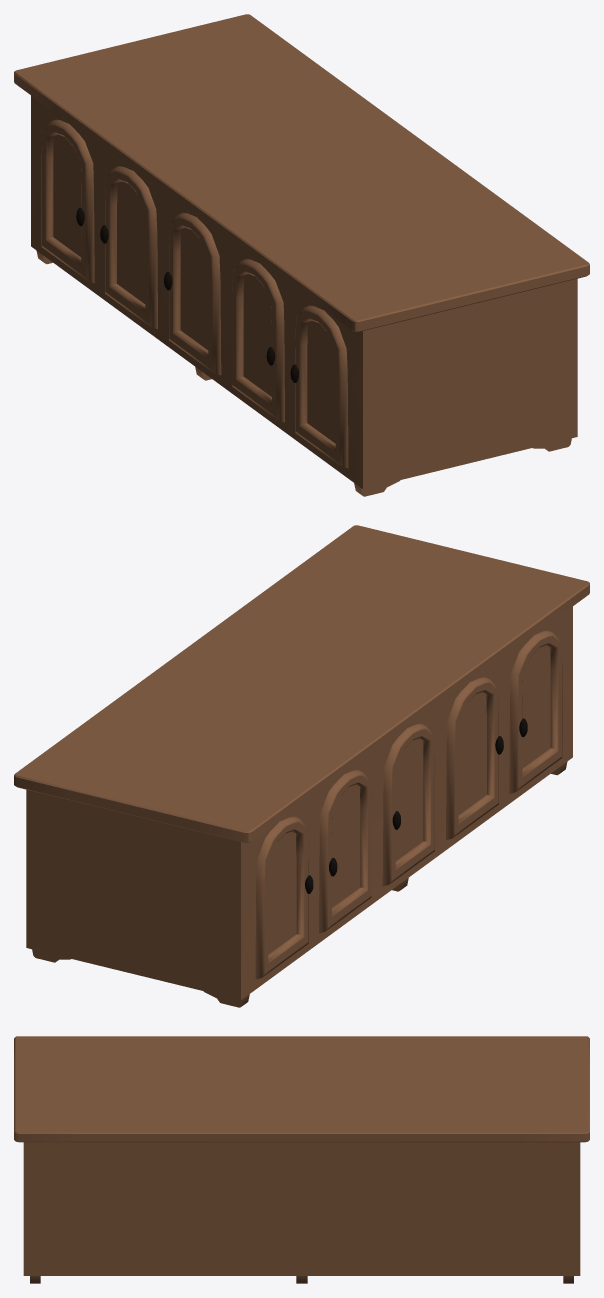
Rendered from CI_079_huge_cupboard_var3.glb.
3 renders of one model, top to bottom at view 1: azimuth 30°, elevation 25°; view 2: azimuth 150°, elevation 25°; view 3: azimuth 270°, elevation 25°, orthographic. The views are drawn at different scales.
Visible parts, largest first — view 1: cupboard; view 2: cupboard; view 3: cupboard.
Boxes of the visible parts, left/top/right/bottom form: cupboard: left=14, top=14, right=589, bottom=496; cupboard: left=14, top=525, right=589, bottom=1007; cupboard: left=14, top=1036, right=589, bottom=1283.
Bounding box in the file's own units: 1.5 × 1.12 × 3.75.
